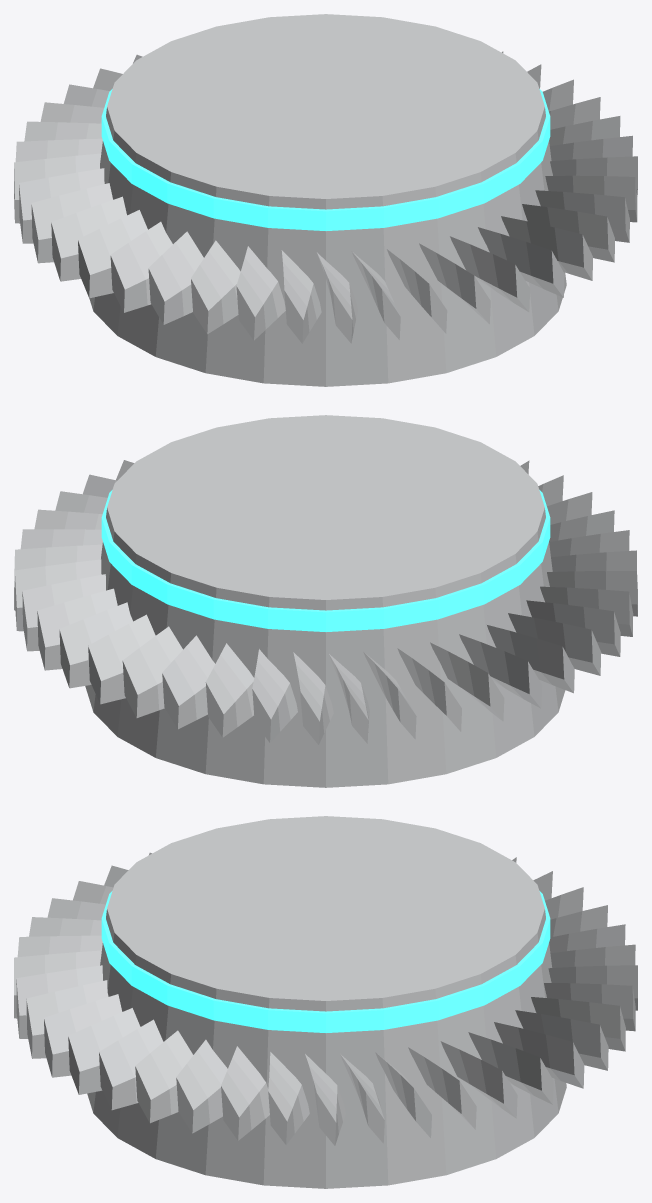
The model's file is turbinedisc_space.glb.
3 views of the same model, one above another, from view 1: azimuth 30°, elevation 25°; view 2: azimuth 150°, elevation 25°; view 3: azimuth 270°, elevation 25° (orthographic).
Visible parts, largest first — view 1: turbinedisc_space; view 2: turbinedisc_space; view 3: turbinedisc_space.
Part boxes in pixels (left/top/right/bottom): turbinedisc_space: left=14, top=14, right=637, bottom=386; turbinedisc_space: left=14, top=415, right=637, bottom=787; turbinedisc_space: left=14, top=816, right=637, bottom=1188.
Bounding box in the file's own units: 0.228 × 0.096 × 0.228.
